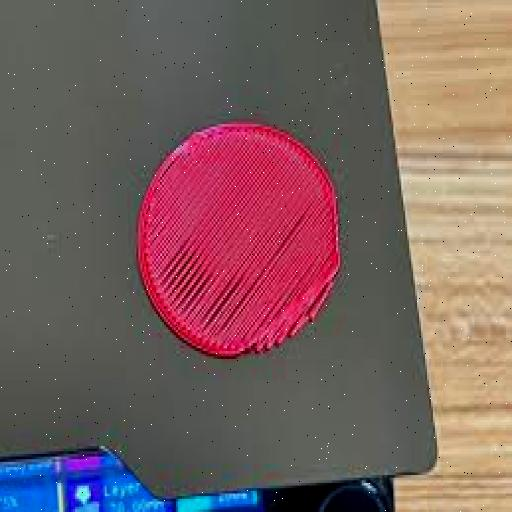cracks: (148, 270, 284, 333)
